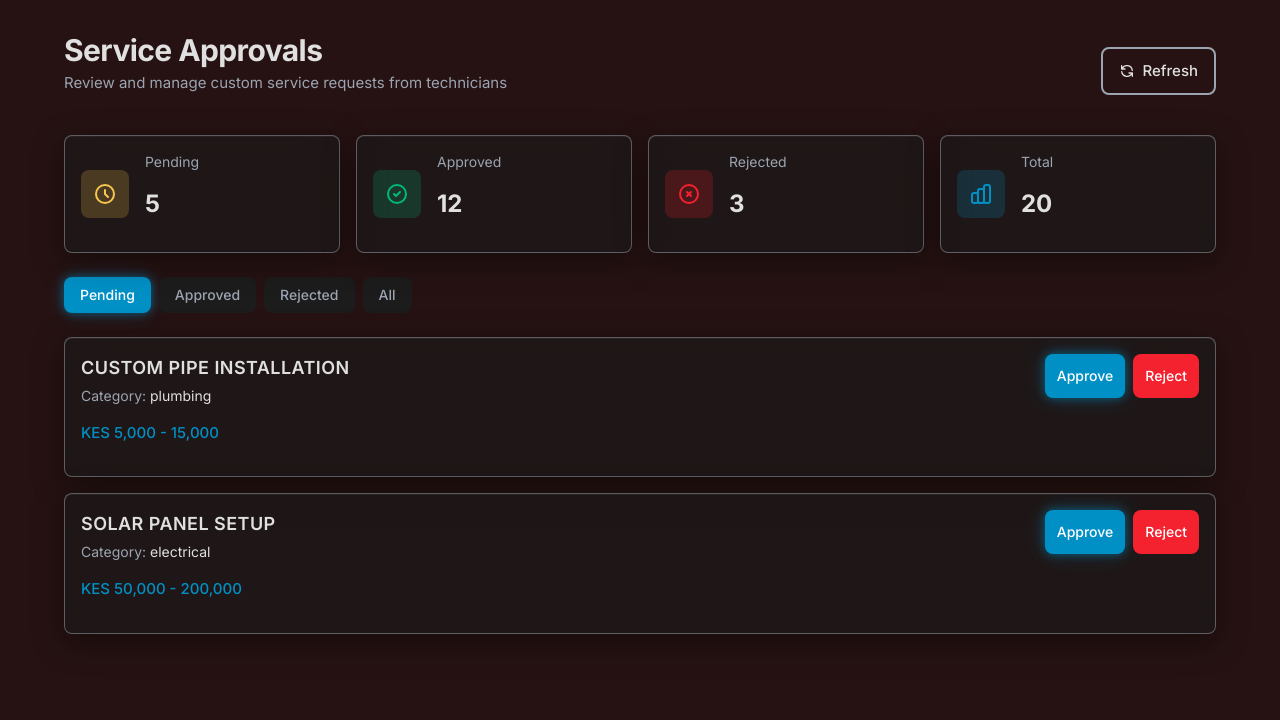
ServiceApprovalDashboard Component › Modal Integration › should open approve modal when approve button clicked
Check: the heading "CUSTOM PIPE INSTALLATION" is shown, box top-left (81, 356), bottom-right (350, 378)
Click the 1st button "Approve".
click(1085, 376)  # box top-left (1045, 354), bottom-right (1125, 398)
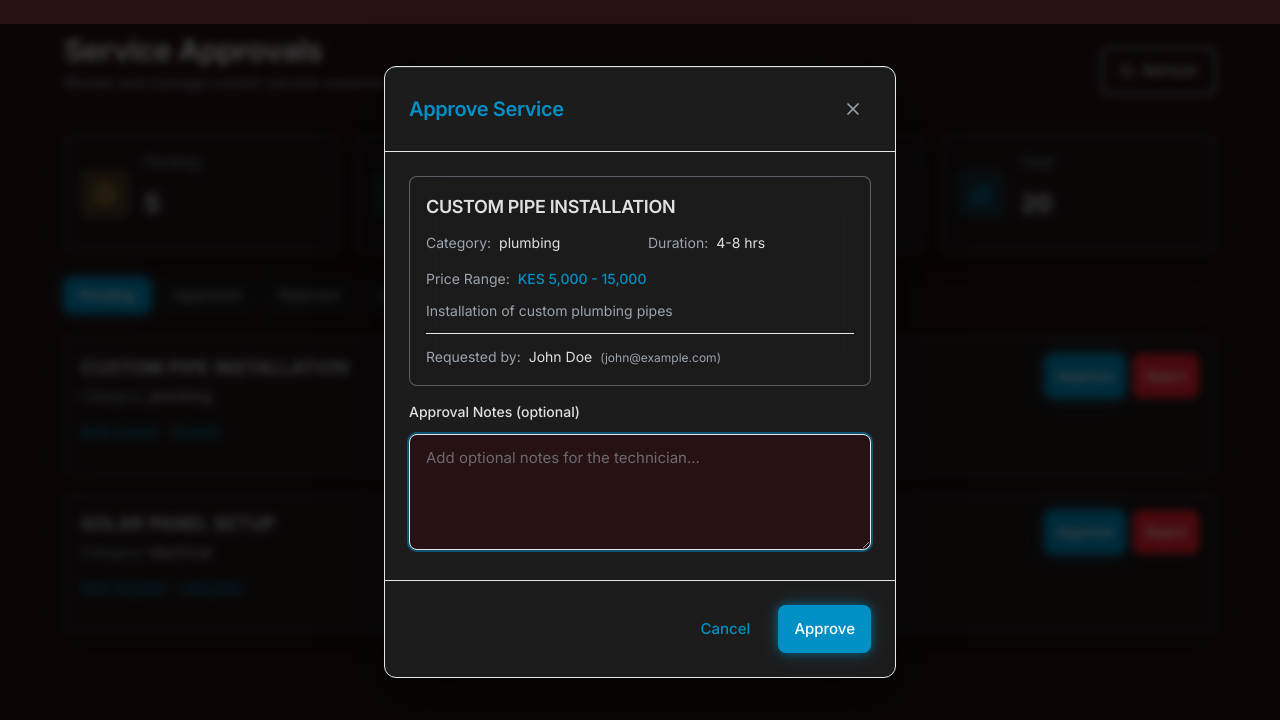
Check: the dialog is shown
Check: the heading "Approve Service" is shown, box top-left (409, 95), bottom-right (564, 123)
